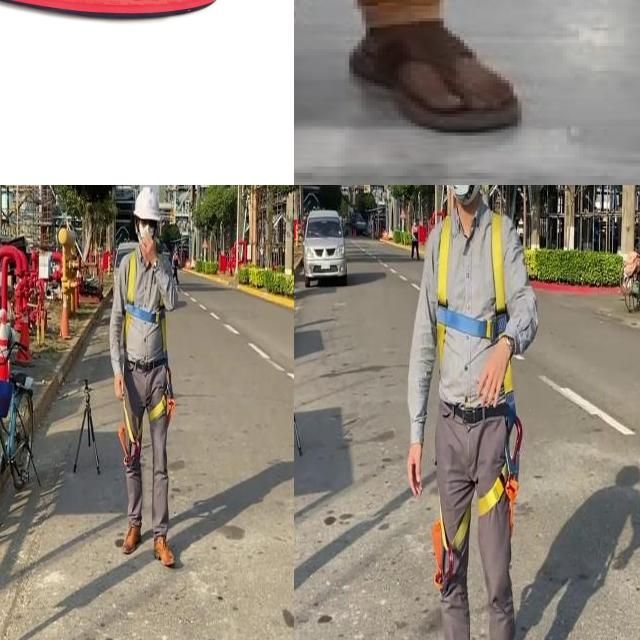Harness: (433, 372, 524, 595), (436, 213, 509, 360), (124, 252, 166, 356)
Sandals: (343, 0, 527, 138)
